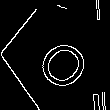O_NE: (26, 22, 95, 89)
